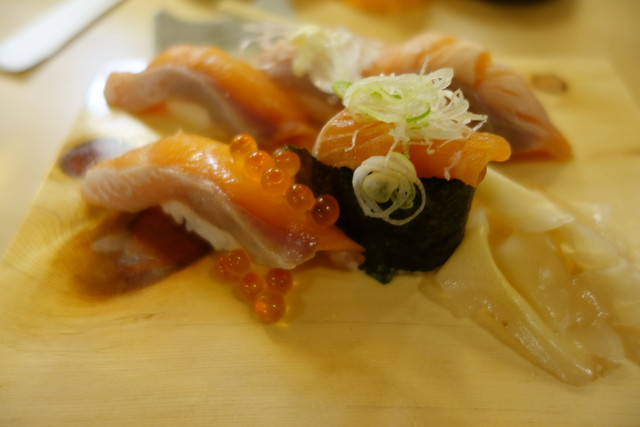salmon: (83, 129, 342, 281)
